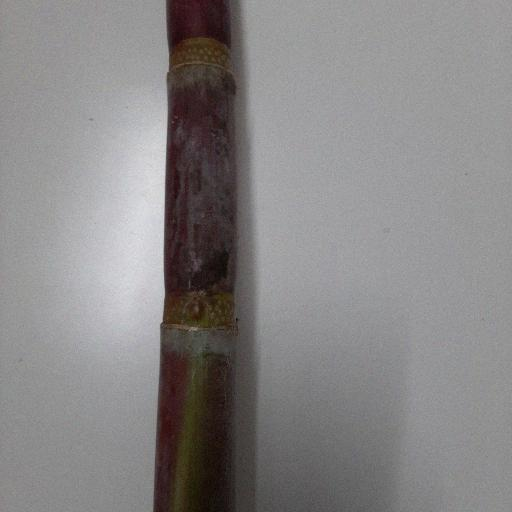Bud: (185, 296, 208, 325)
